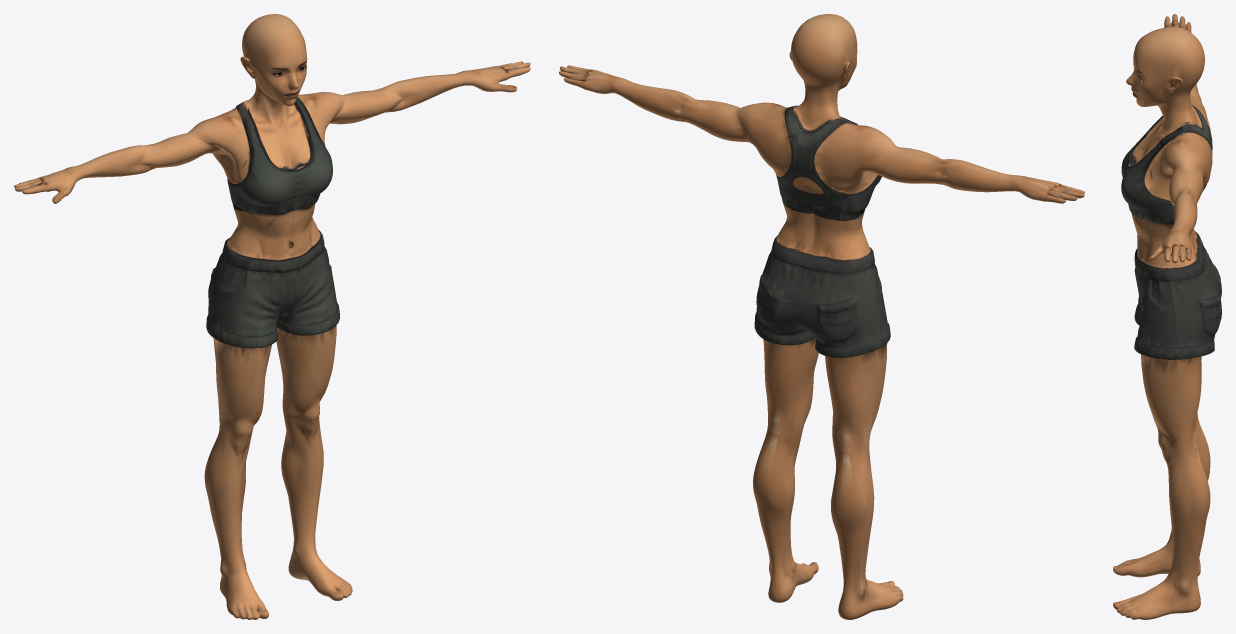
The model's file is atleta-feminina.glb.
The picture shows the model from 3 angles, left to right: view 1: azimuth 30°, elevation 25°; view 2: azimuth 150°, elevation 25°; view 3: azimuth 270°, elevation 25°; orthographic projection. The views are drawn at different scales.
Bounding box in the file's own units: 1.78 × 1.9 × 0.3323.
Materials: 1 (1 with a texture image).
